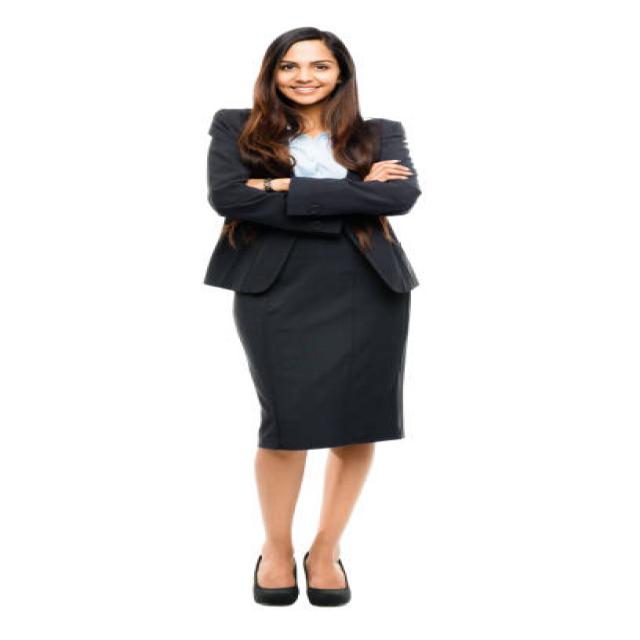Edited images: (177, 20, 458, 612)
